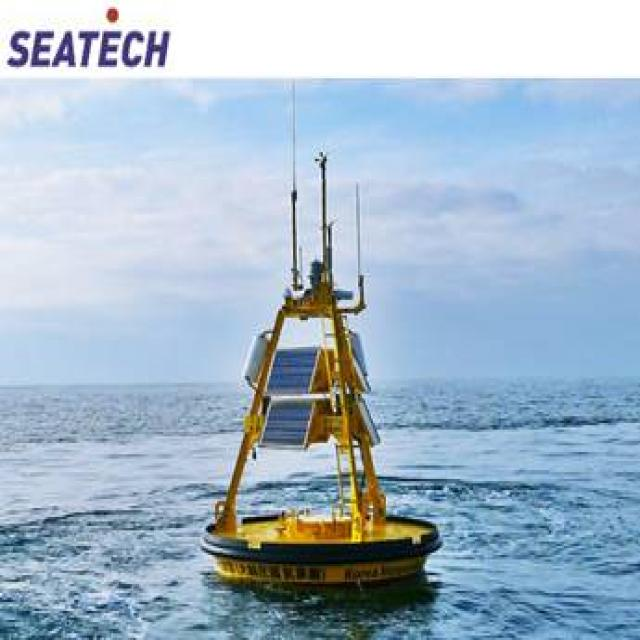buoy: (181, 122, 438, 604)
